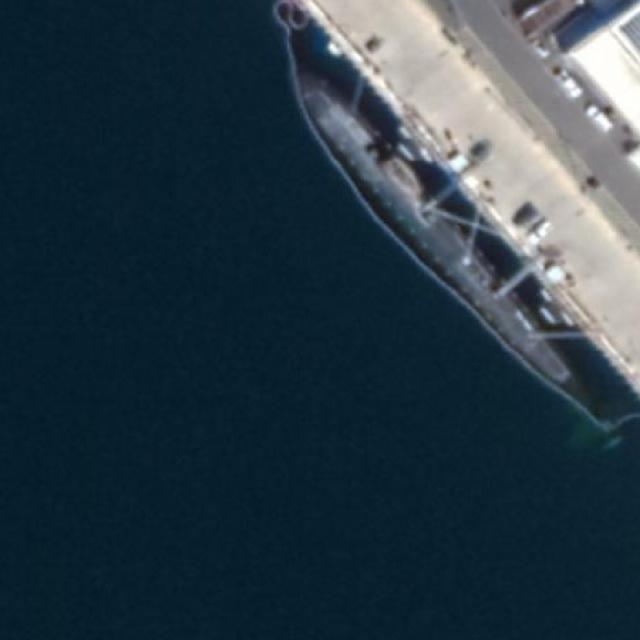Submarine: (269, 56, 582, 404)
